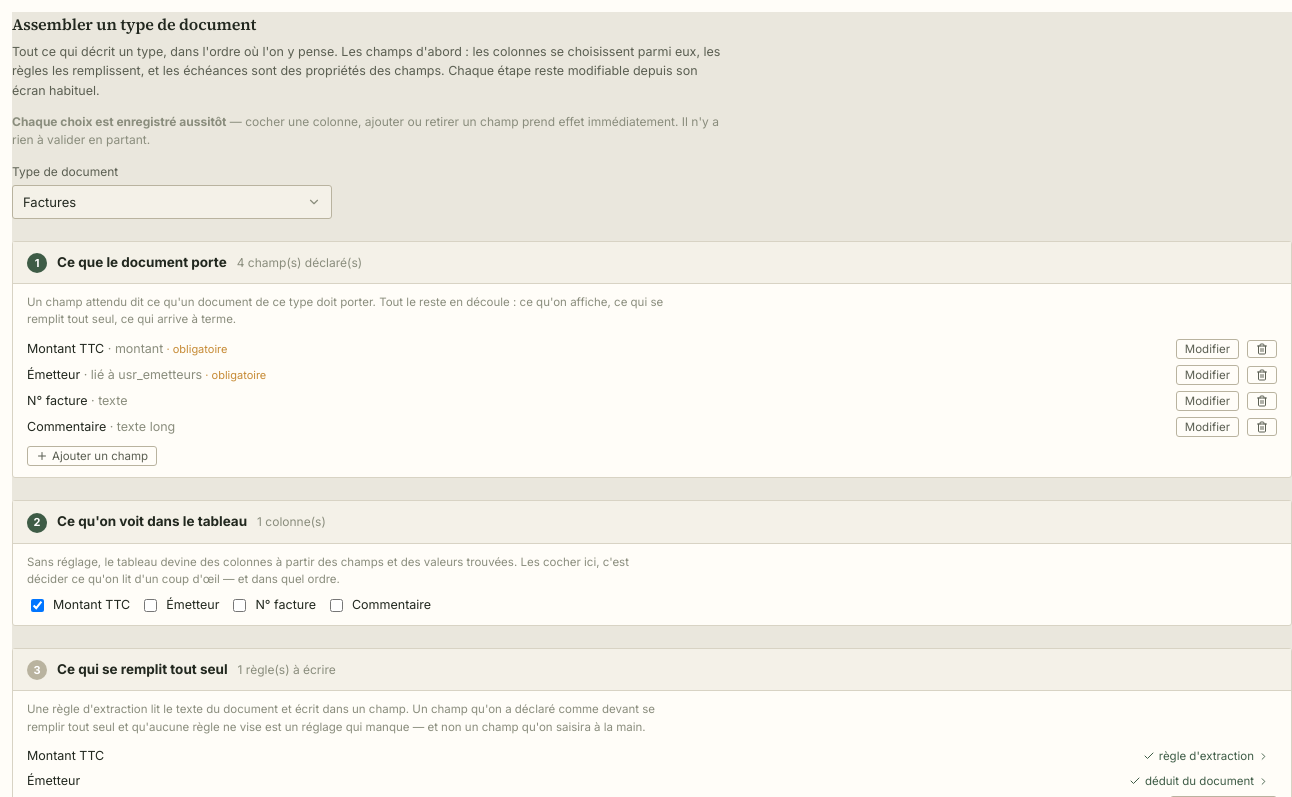
assembler un type de document › dit que chaque choix est enregistré, et le confirme
Expected: the text "Chaque choix est enregistré aussitôt" is shown, [12,114,226,129]
Step 1. Click the checkbox labelled "Émetteur" → (151, 606), box [144,599,157,612]
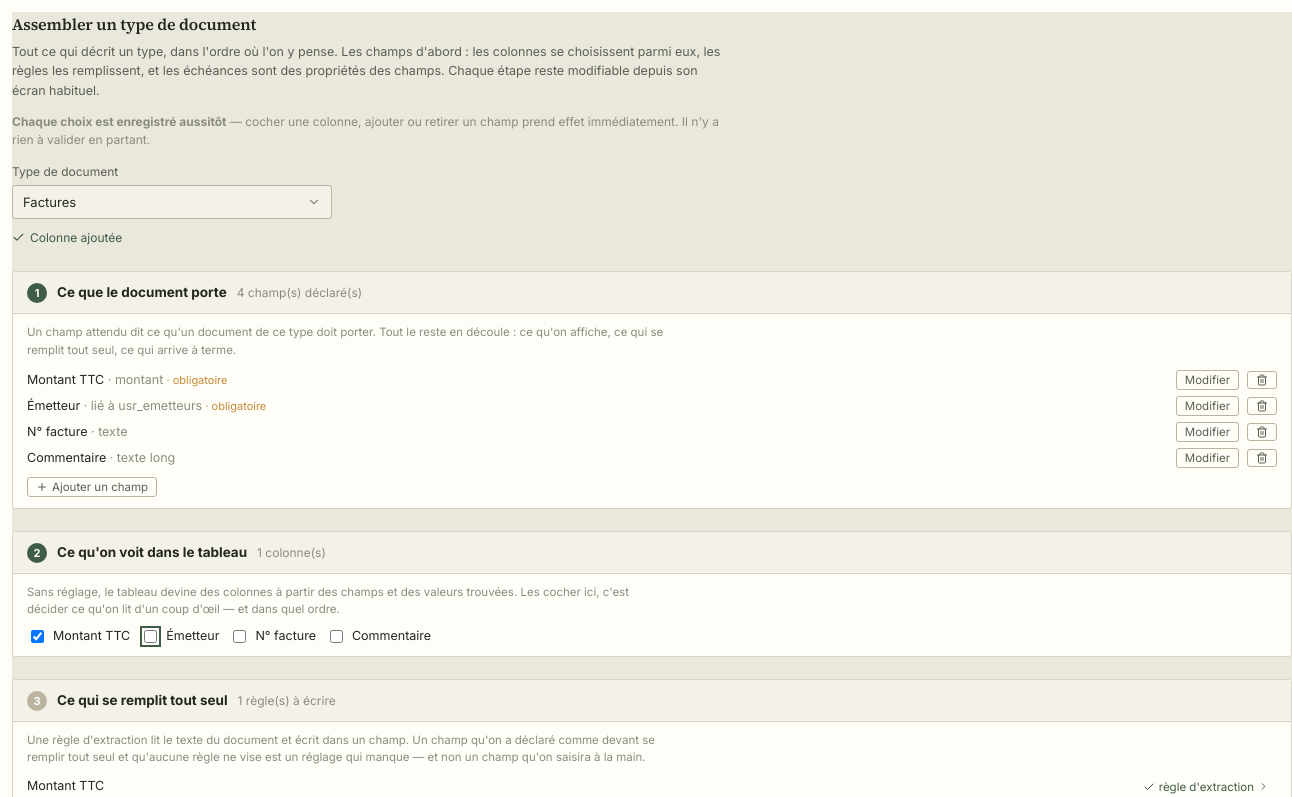
Expected: the text "Colonne ajoutée" is shown, [12,229,122,247]
